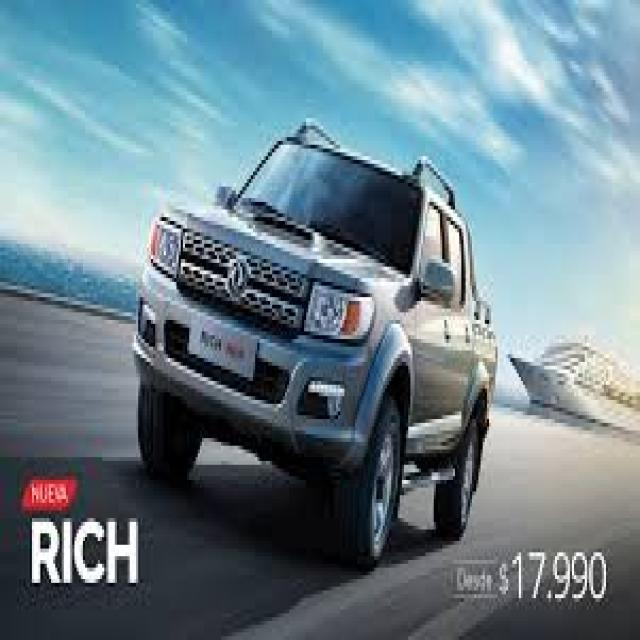CMT: (134, 108, 492, 526)
